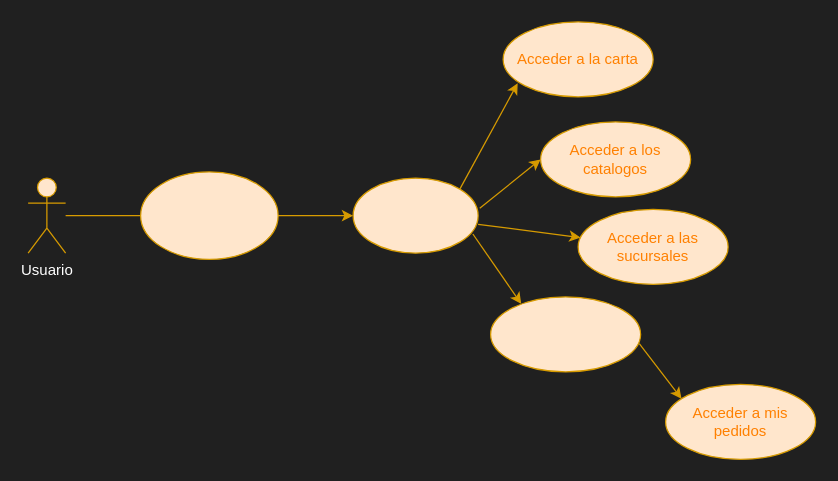
This 838x481 diagram has some shape labels left out. Here are the shapes that lost their labels. From the top down, the centre of each, then its label:
At pixel 208 215: "crear una cuenta".
At pixel 415 215: "Iniciar sesión".
At pixel 565 334: "Realizar pedidos".
